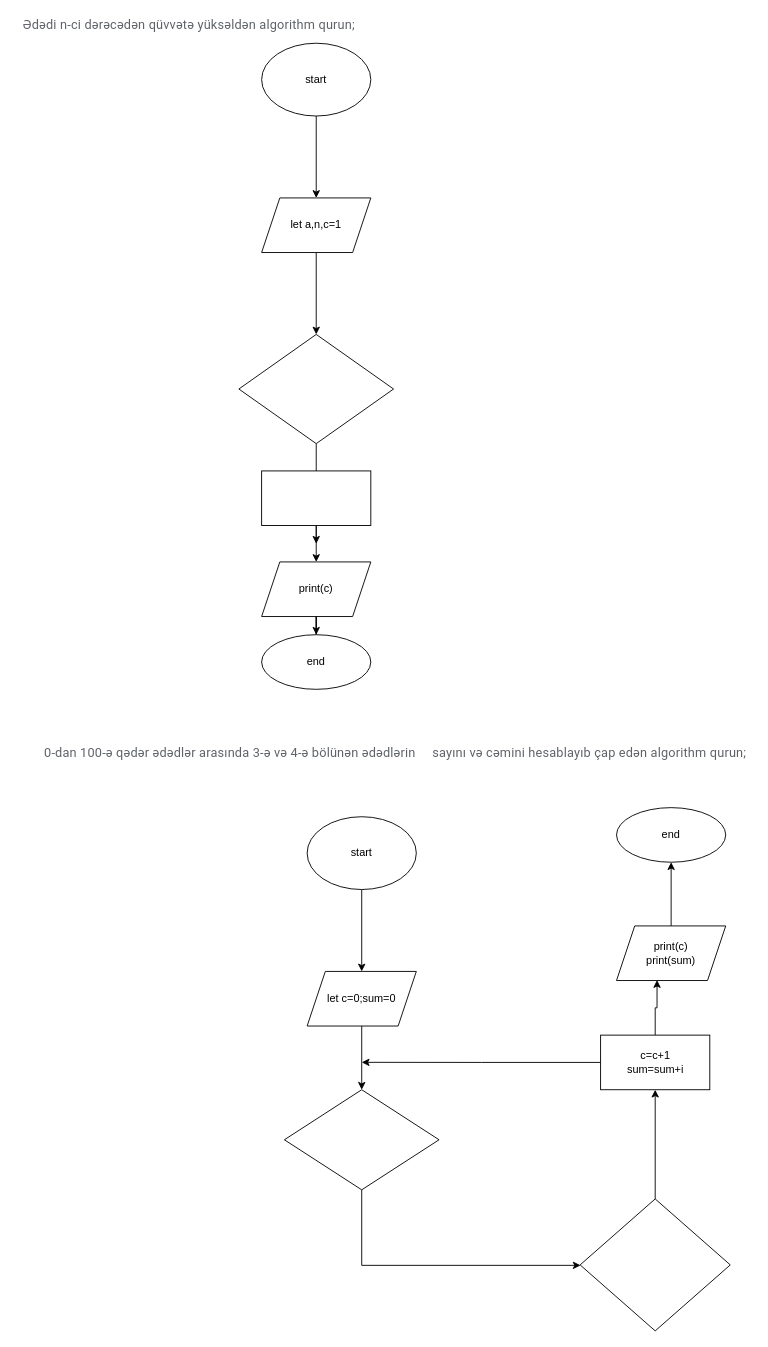
Image size: 768x1347. Some labels were removed from this diagram. Here are the shapes that lost their labels. From the top down, the centre of each, then its label:
the point at 316,389: int i=0;i<n;i++
the point at 316,498: c=c*a
the point at 361,1139: int i=0;i<100;i++
the point at 654,1264: i%3==0 && i%4==0
